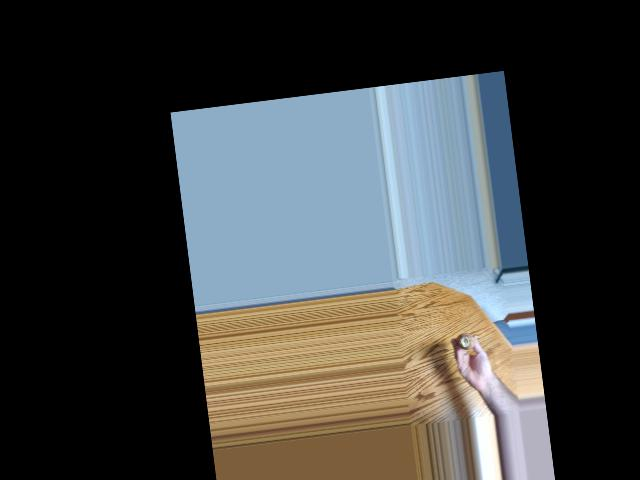sweet_potato: (458, 327, 477, 350)
